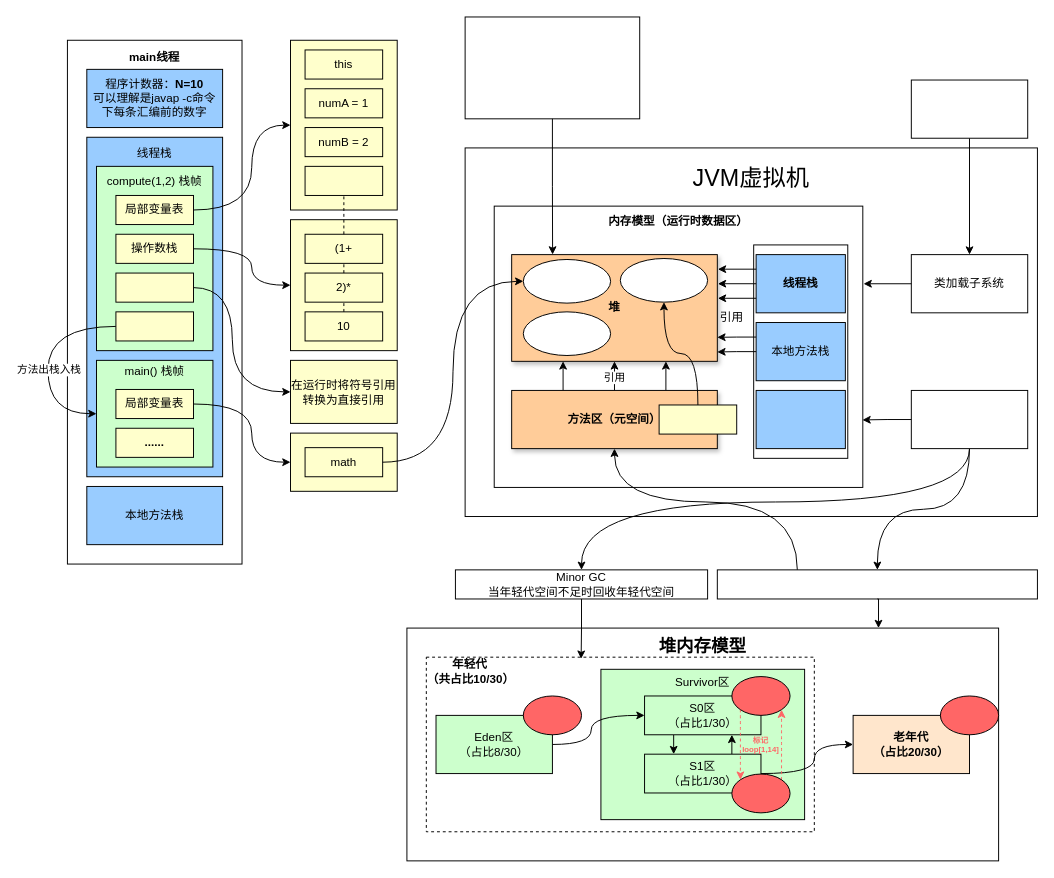
Some shapes in this 1054 by 878 pixel diagram are drawn without their labels. The centre of each missing label's shape, as x and y in pixels:
A线程: the point at 552,67
Full GC/Major GC 当老年代 或方法区空间 不足时回收整个堆和可能的方法区 空间: the point at 876,584
java Math.class: the point at 969,108
new Math(): the point at 566,281
new Math() 标记：0: the point at 552,715
new Math() 标记：1: the point at 760,695
new Math() 标记：14: the point at 760,793
new Math() 标记：15: the point at 969,715
new User(): the point at 663,280
res = ?: the point at 343,180
String[]{ ...... }: the point at 566,333
user: the point at 697,419
动态链接: the point at 154,287
字节码执行引擎: the point at 969,419
方法出口: the point at 154,326
程序计数器 （PC寄存器）: the point at 800,419
